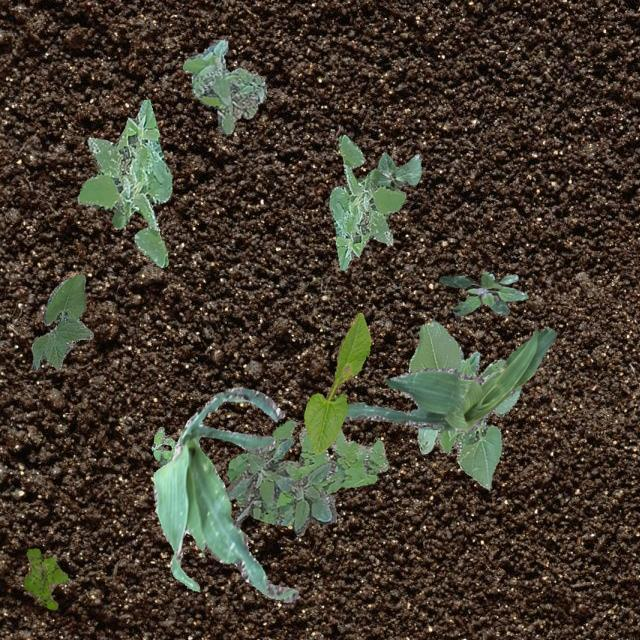crop: (152, 386, 296, 600), (342, 326, 556, 432), (408, 320, 520, 488), (302, 312, 370, 454), (31, 274, 92, 368), (358, 152, 421, 190)
weed: (226, 418, 388, 524), (76, 98, 170, 266), (225, 436, 336, 536), (328, 134, 404, 268), (182, 38, 266, 134), (438, 270, 526, 314), (22, 548, 66, 608), (150, 426, 177, 466)
